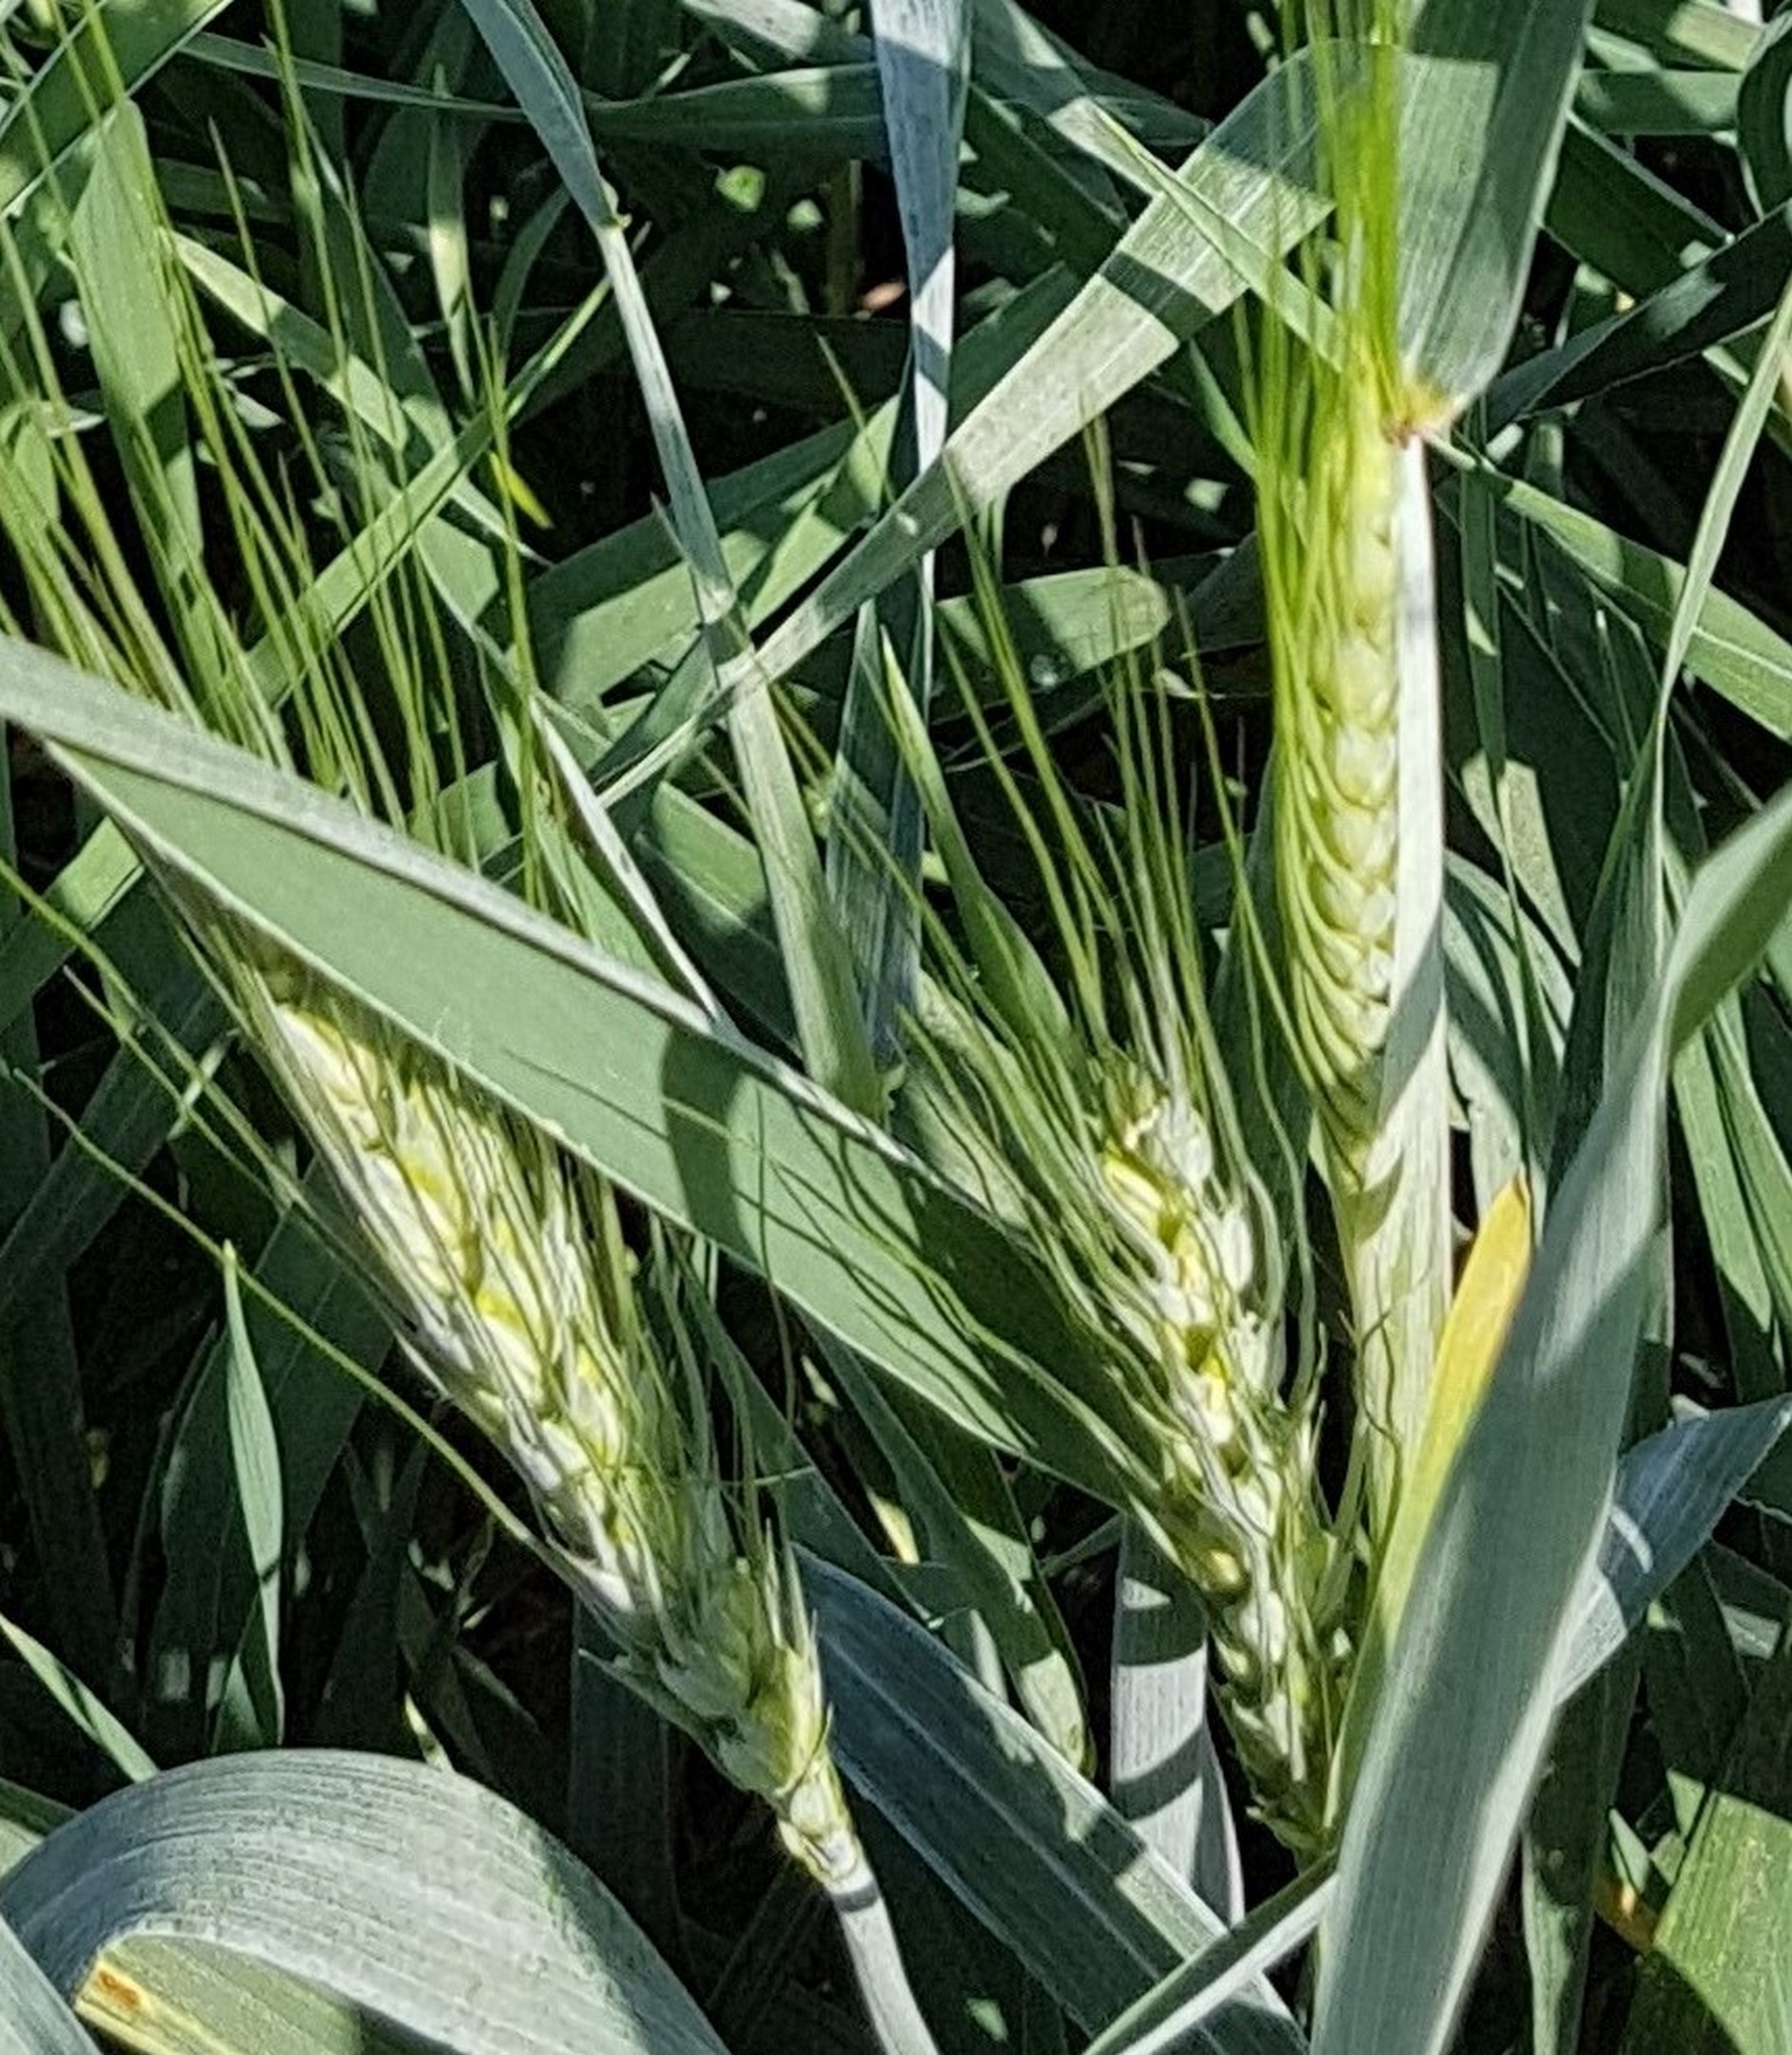Healthy Wheat: (1093, 381, 1436, 1711)
